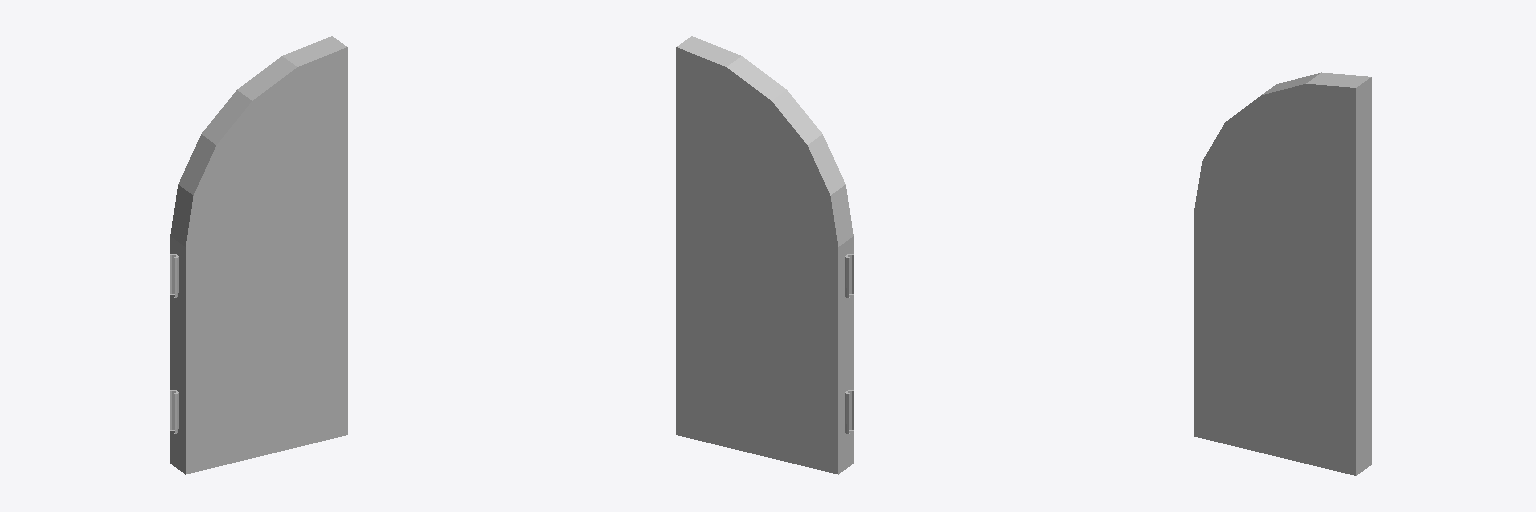
The model's file is castle_doorL.obj.
The picture shows the model from 3 angles: view 1: azimuth 30°, elevation 25°; view 2: azimuth 150°, elevation 25°; view 3: azimuth 330°, elevation 25°; orthographic projection.
Visible parts, largest first — view 1: Towers_Doors_and_Windows.001; view 2: Towers_Doors_and_Windows.001; view 3: Towers_Doors_and_Windows.001.
Part boxes in pixels (x1,y1,x2,y2): Towers_Doors_and_Windows.001: (170, 36, 347, 474); Towers_Doors_and_Windows.001: (676, 36, 853, 474); Towers_Doors_and_Windows.001: (1194, 72, 1371, 475).
Bounding box in the file's own units: 3.25 × 7.18 × 0.5126.